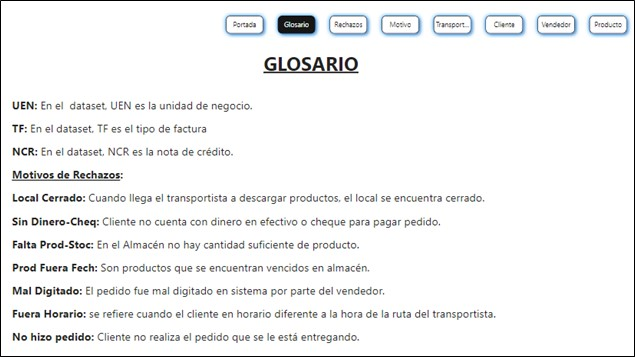

This screenshot's page, from the dashboard's own definition file:
{"tool":"powerbi","page":{"name":"Glosario","canvas":[1280,720],"ordinal":1},"visuals":[{"type":"textbox","box":[53.7,88.1,1173.1,80.6],"z":0},{"type":"textbox","box":[53.7,197,1173.1,522.4],"z":3000},{"type":"pageNavigator","box":[465.1,34.6,800.6,53.3],"z":3001}]}

Visuals, with their boxes in screenshot pixels (x1, y1, x2, y2), scaled from the page's 1280x720 canvas onto the 635x357 screenshot:
textbox: Rect(27, 44, 609, 84)
textbox: Rect(27, 98, 609, 356)
pageNavigator: Rect(231, 17, 628, 44)
